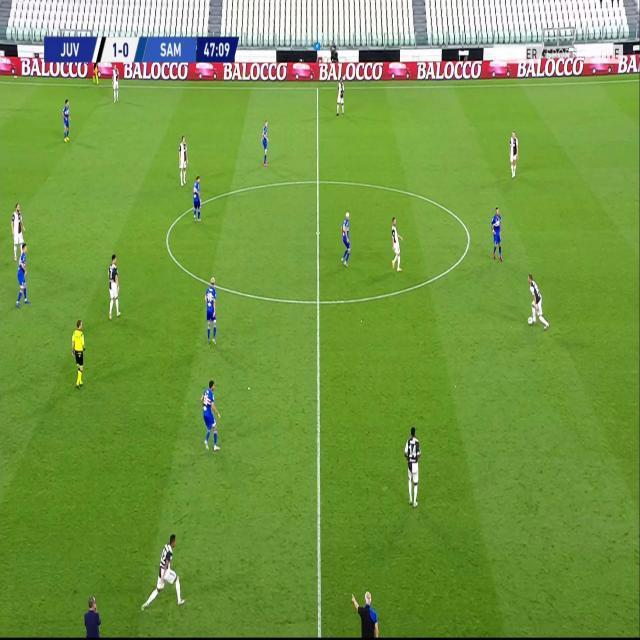ball: (527, 315, 534, 326)
player: (139, 533, 188, 616), (199, 378, 222, 454), (403, 423, 423, 506), (526, 271, 549, 331), (106, 250, 122, 320), (203, 275, 218, 345), (10, 199, 26, 262), (388, 214, 405, 272), (15, 246, 30, 310), (339, 208, 352, 268), (491, 204, 504, 262), (177, 132, 189, 186), (191, 174, 203, 224), (60, 97, 72, 143), (509, 128, 520, 178), (259, 118, 270, 167), (336, 76, 346, 115), (110, 63, 119, 102)
referee: (71, 317, 87, 389), (93, 60, 101, 83)
